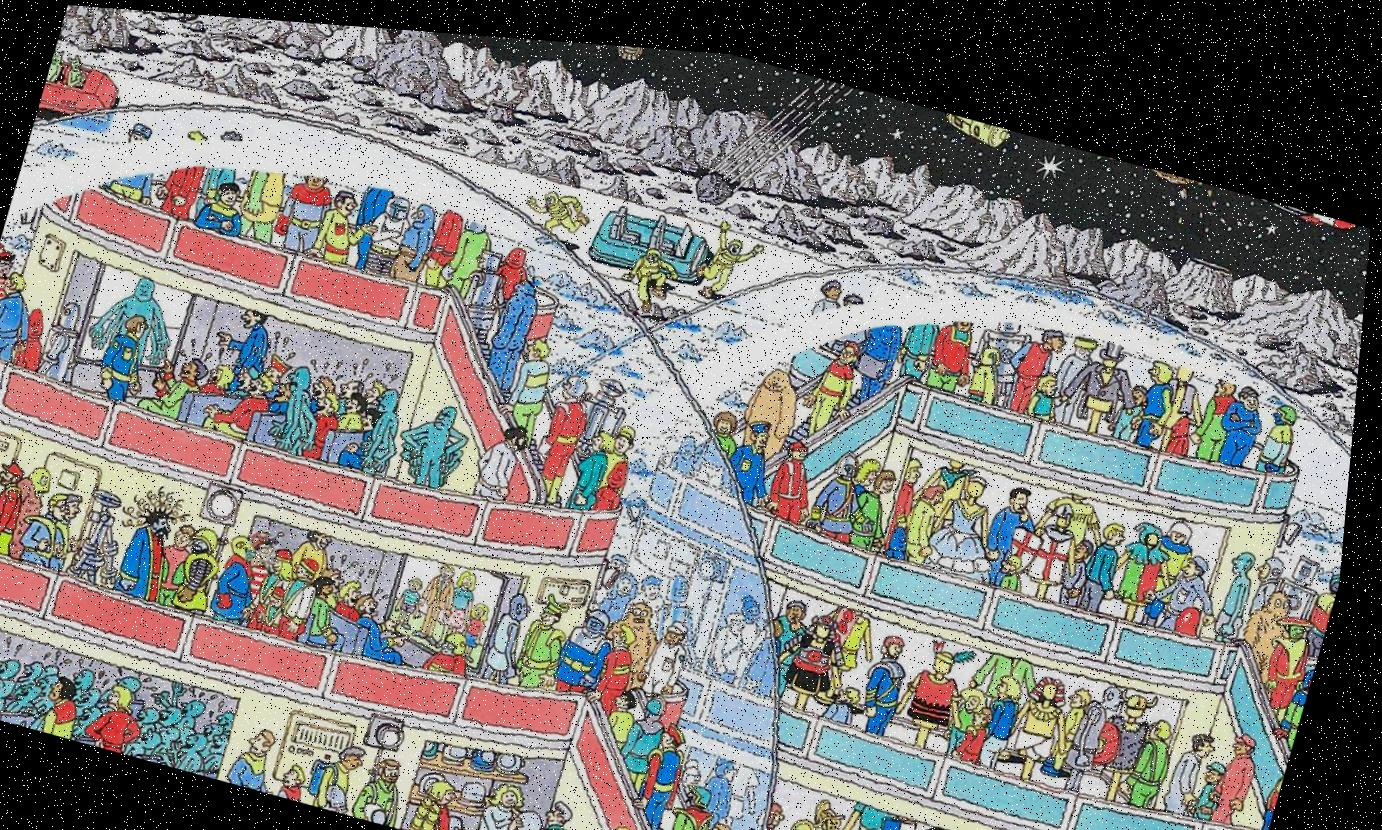waldo: (254, 526, 291, 563)
